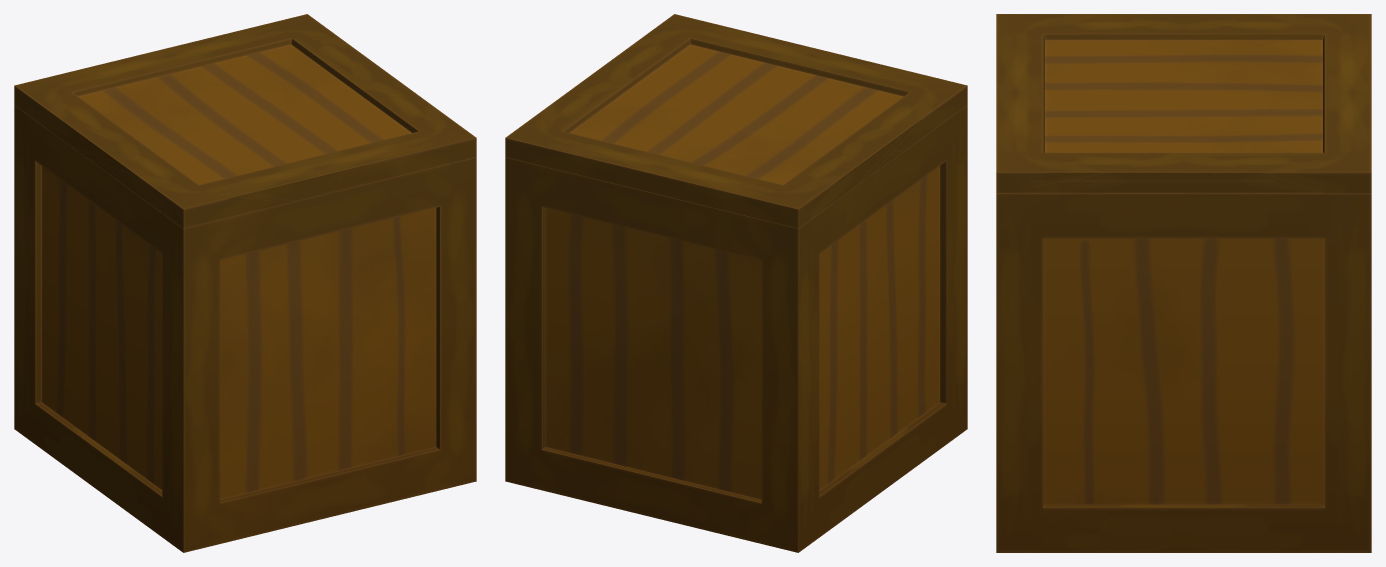
File: wooden_crate_final.glb
The picture shows the model from 3 angles, left to right: view 1: azimuth 30°, elevation 25°; view 2: azimuth 150°, elevation 25°; view 3: azimuth 270°, elevation 25°; orthographic projection. The views are drawn at different scales.
Visible parts, largest first — view 1: Wooden_Crate_Joined_Low; view 2: Wooden_Crate_Joined_Low; view 3: Wooden_Crate_Joined_Low.
Boxes of the visible parts, x1,y1,x2,y2 form: Wooden_Crate_Joined_Low: (14, 14, 476, 552); Wooden_Crate_Joined_Low: (505, 14, 967, 552); Wooden_Crate_Joined_Low: (996, 14, 1371, 552).
Bounding box in the file's own units: 1 × 1.12 × 1.
Materials: 1 (1 with a texture image).
